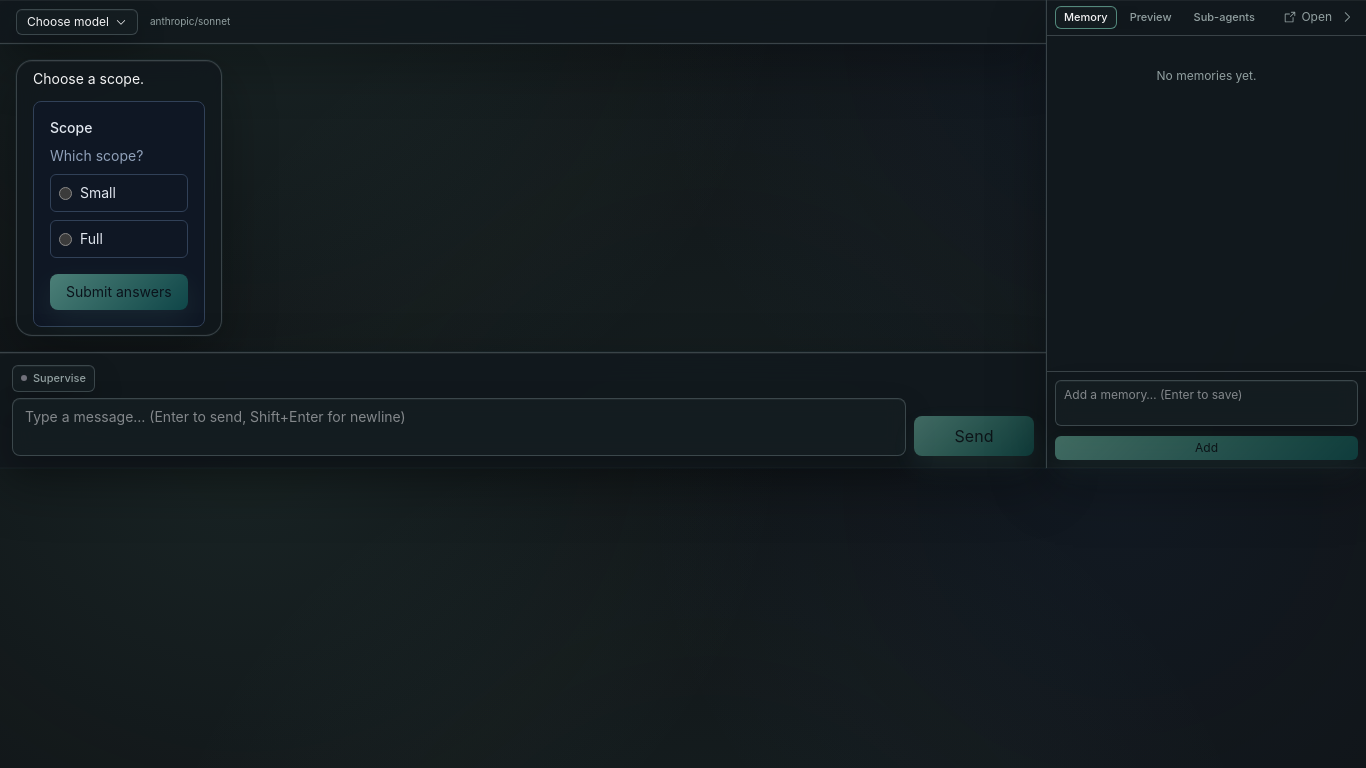
Test case: ChatPanel › renders a terminal fallback question and submits one readable continuation turn
Expected: the text "Choose a scope." is shown, left=33, top=70, right=144, bottom=87
Click the radio button labelled "Full" at (66, 240), box left=59, top=233, right=72, bottom=246
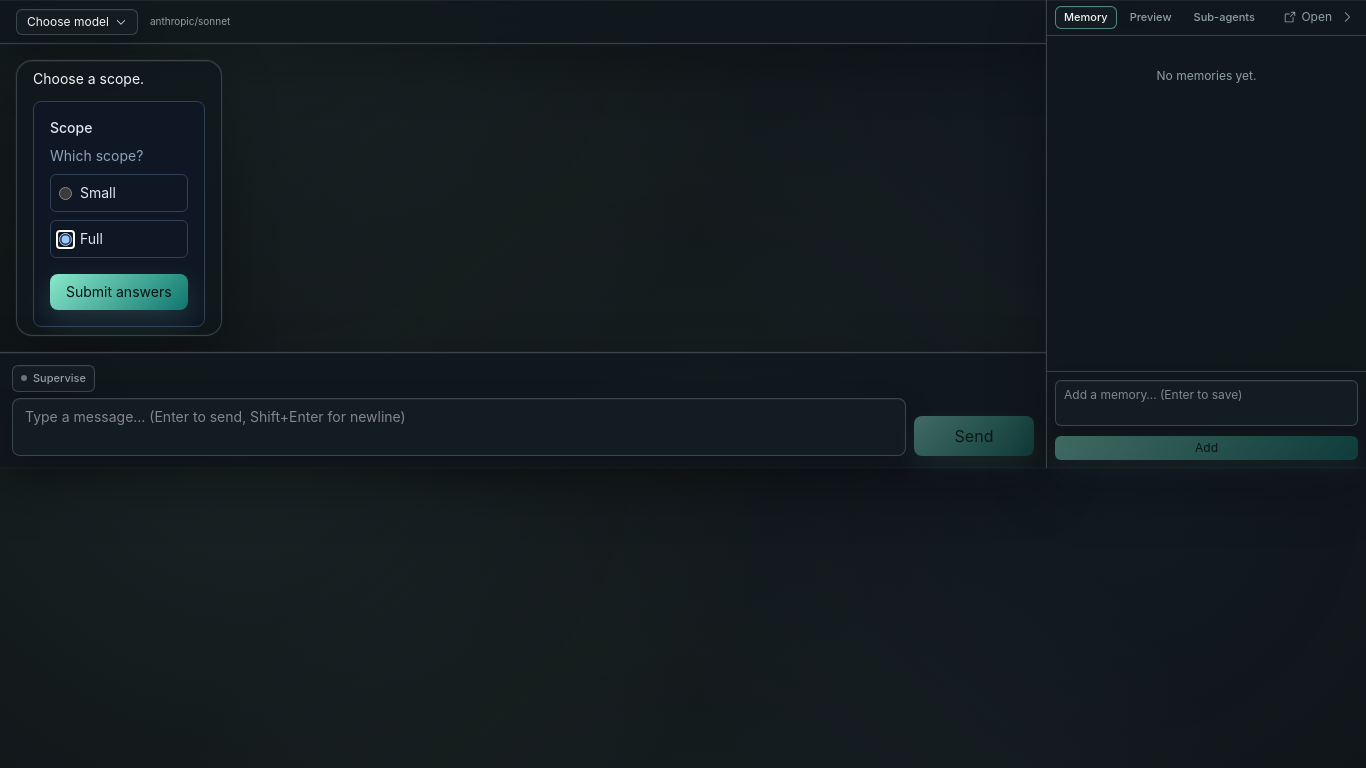
Click the button "Submit answers" at (119, 292), box left=50, top=274, right=188, bottom=310
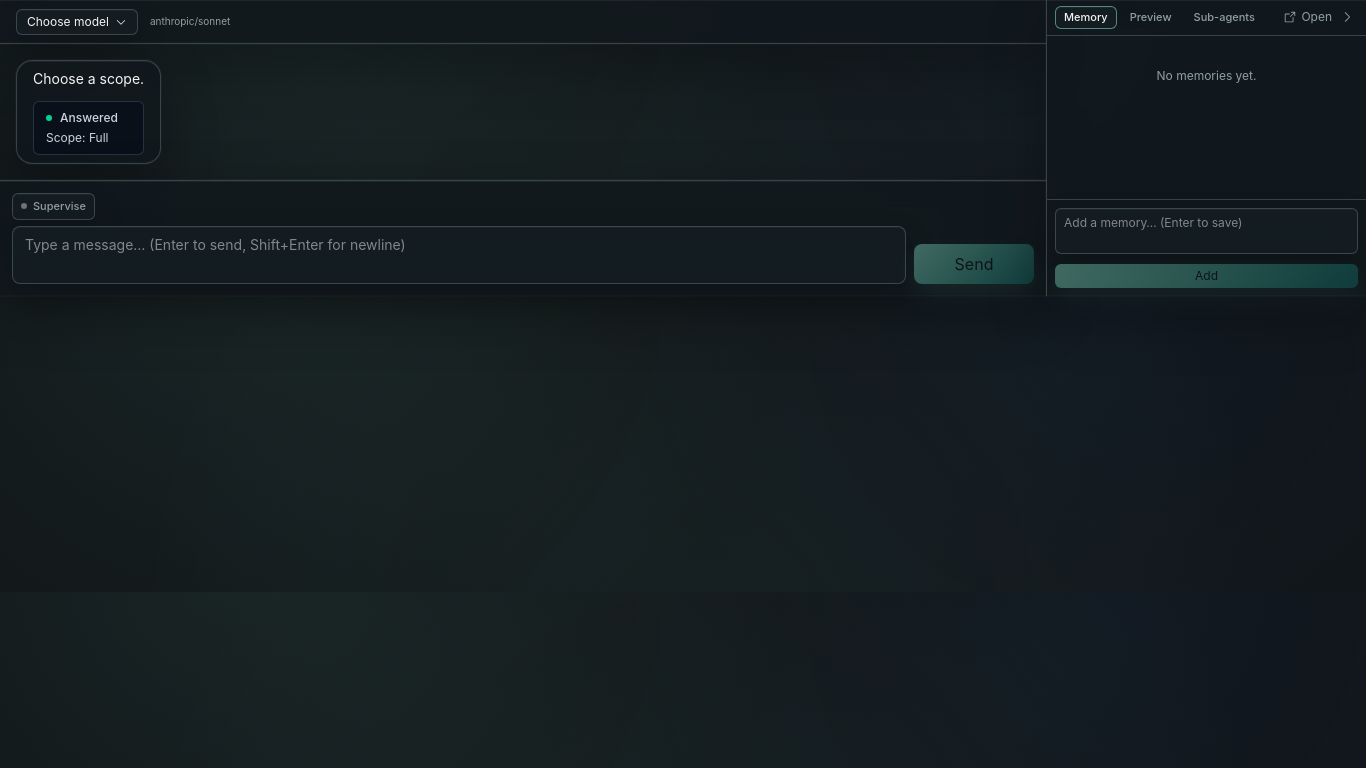
Now the list item "Scope: Full" is shown, box left=46, top=130, right=108, bottom=145
Now the text "Answered" is shown, box left=60, top=110, right=118, bottom=126
Now the text "Which scope?" is gone
